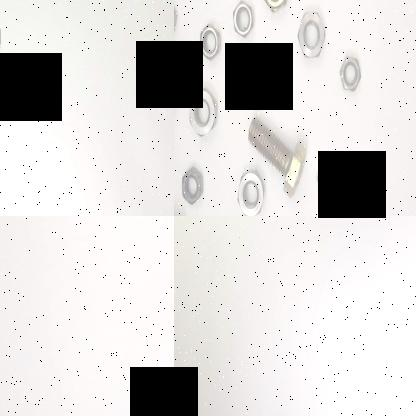Bolts: (249, 110, 306, 200), (230, 39, 273, 113), (312, 159, 348, 216)
NUTS: (296, 7, 328, 73), (186, 82, 219, 136), (235, 165, 267, 216), (338, 45, 364, 100), (194, 18, 228, 60), (182, 163, 208, 209), (232, 1, 258, 46), (256, 0, 292, 15)
